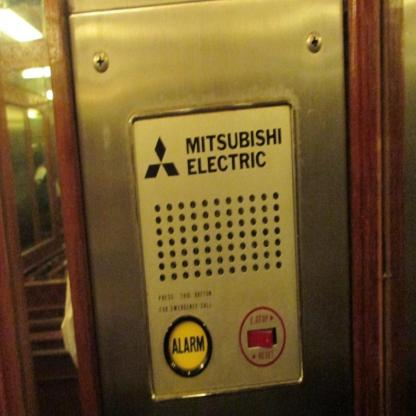bt_switch: (236, 302, 287, 368)
text_alarm bell: (162, 312, 213, 378)
